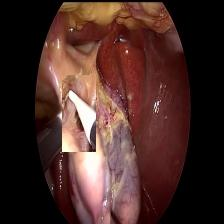Hook: (60, 74, 94, 151)
